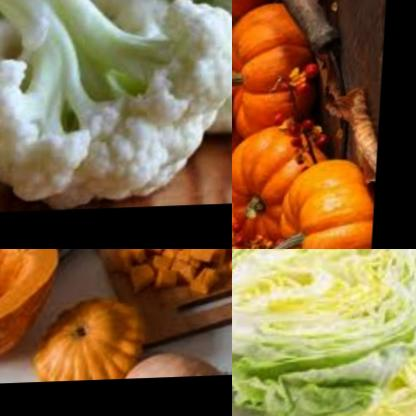cayliflower: (0, 0, 232, 207)
pumpkin: (232, 0, 320, 139), (232, 124, 324, 249), (41, 292, 156, 383), (268, 158, 378, 249), (0, 249, 75, 366), (113, 249, 232, 295), (122, 346, 232, 379)
salad: (232, 249, 416, 416), (238, 339, 416, 416)
